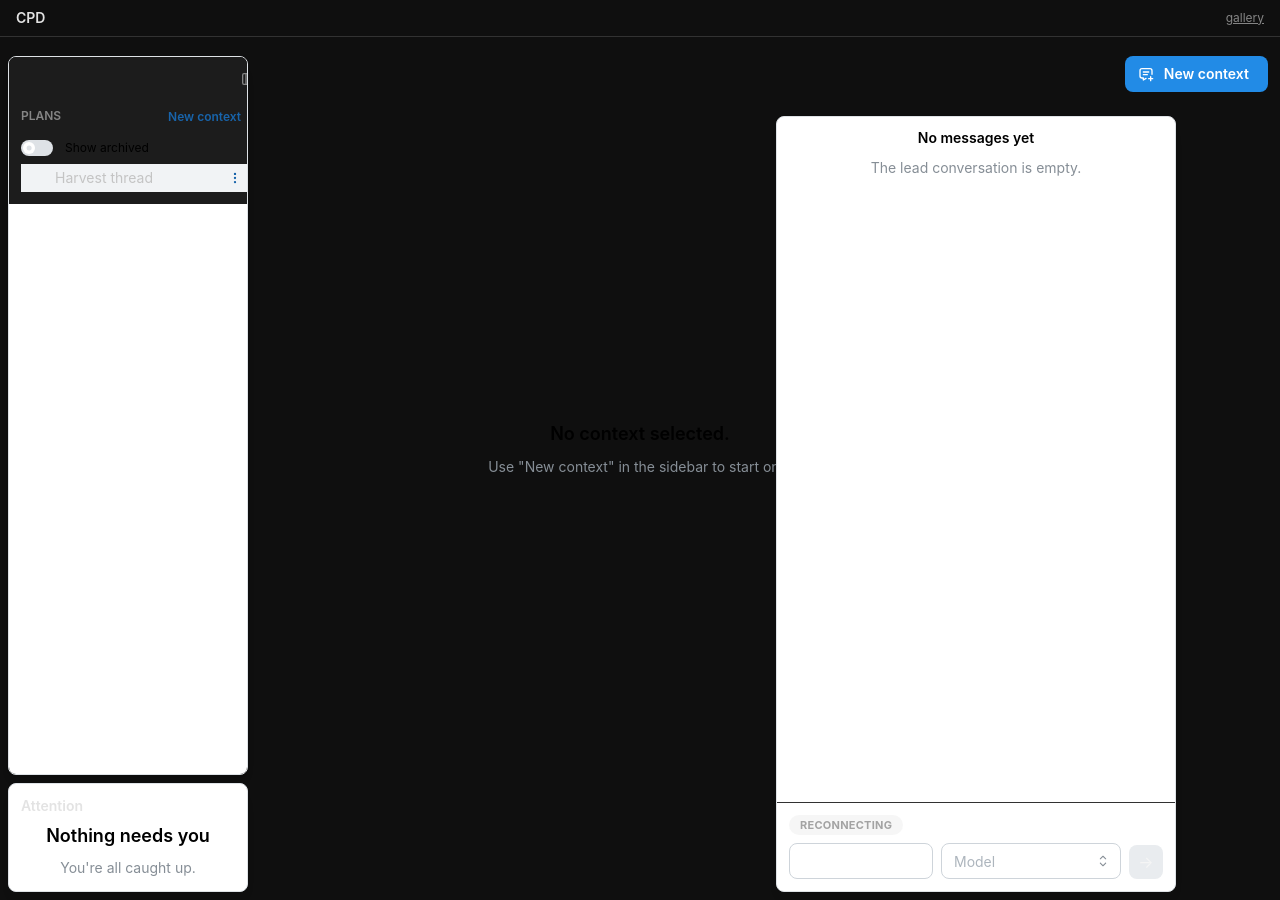
it: App shows only real conversations, no fixtures (I2) › K2: a failed create shows an error notification and does not navigate away
Expected: the text "Harvest thread" is shown, [55,169,153,186]
What coordinates should you click on to do the following:
click the element with test id "thread-1"
I would click on:
 (138, 178)
Its box is [21,164,256,192].
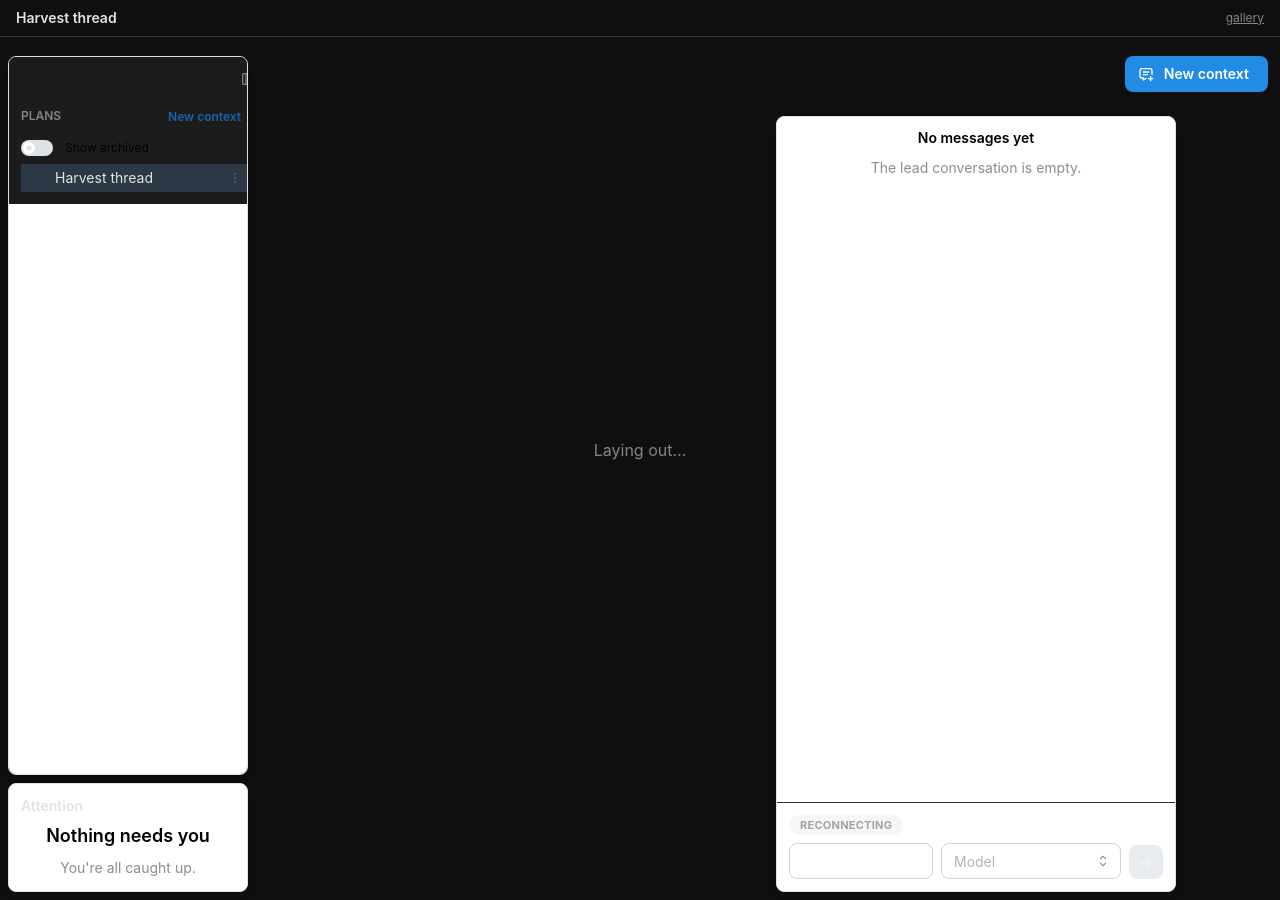
What coordinates should you click on to do the following:
click the button with test id "new-session-button"
I would click on:
 (204, 117)
Its box is [153,102,256,132].
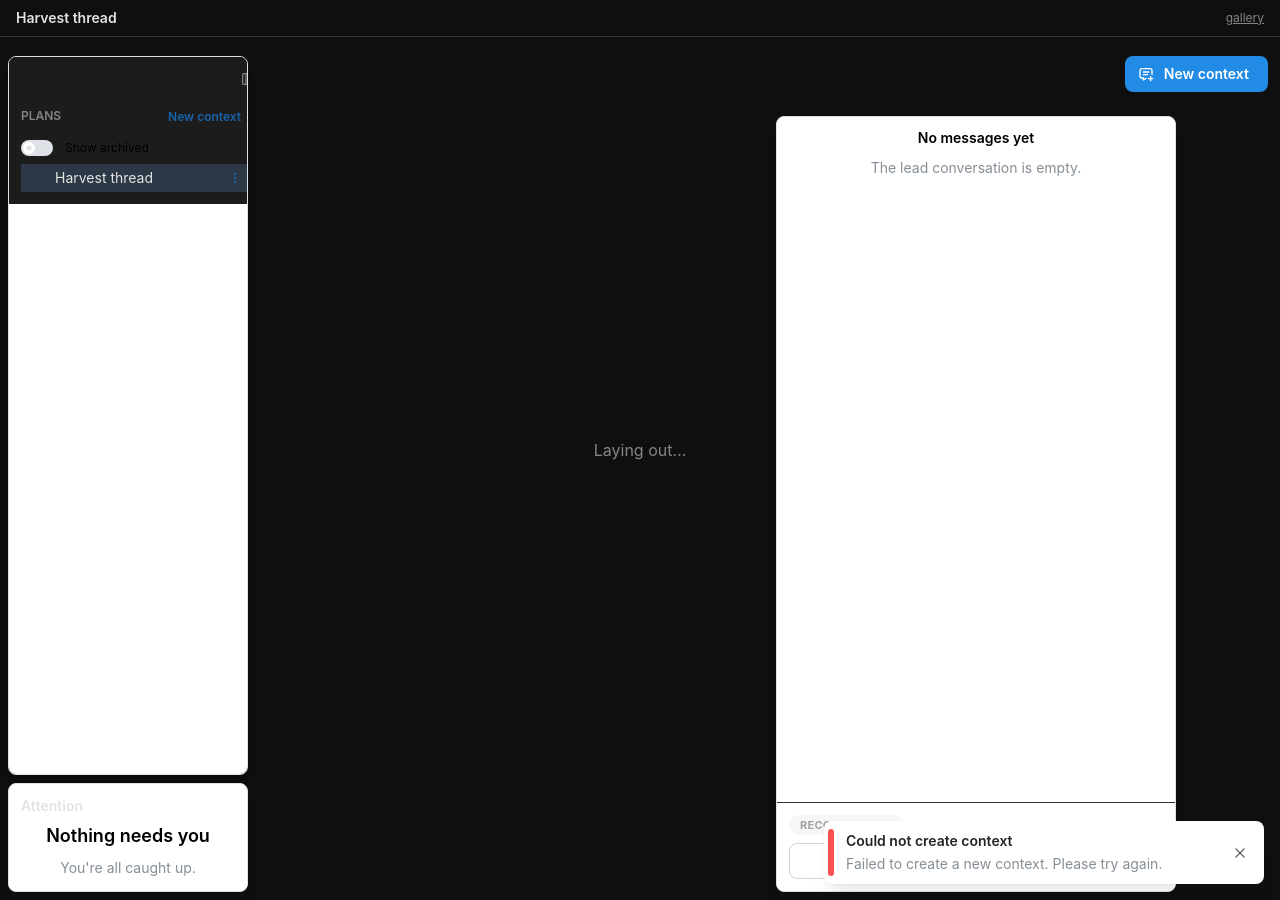
Result: the text "Could not create context" is shown at [846,832,1012,849]
